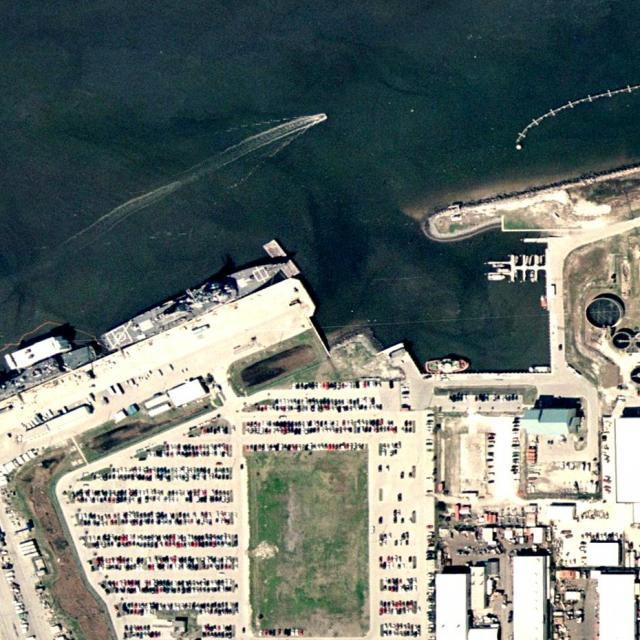Destroyer: (97, 252, 292, 355)
Hovercraft: (424, 359, 470, 374)
